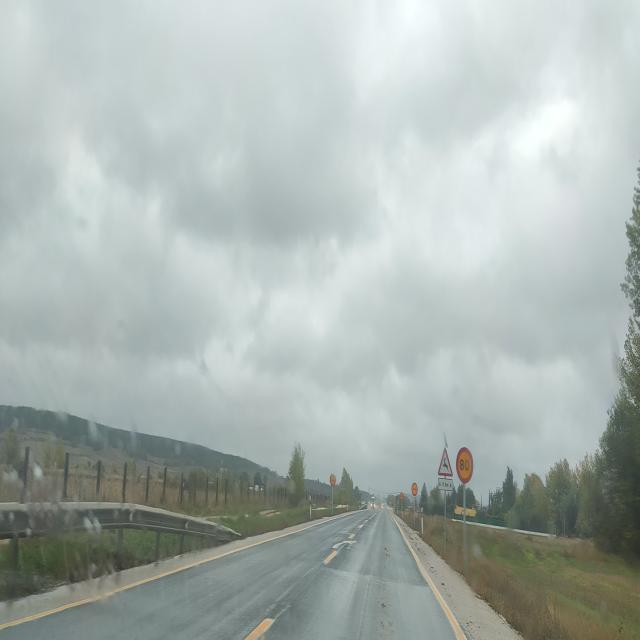Poth-hole: (373, 585, 393, 640), (381, 545, 391, 563)
